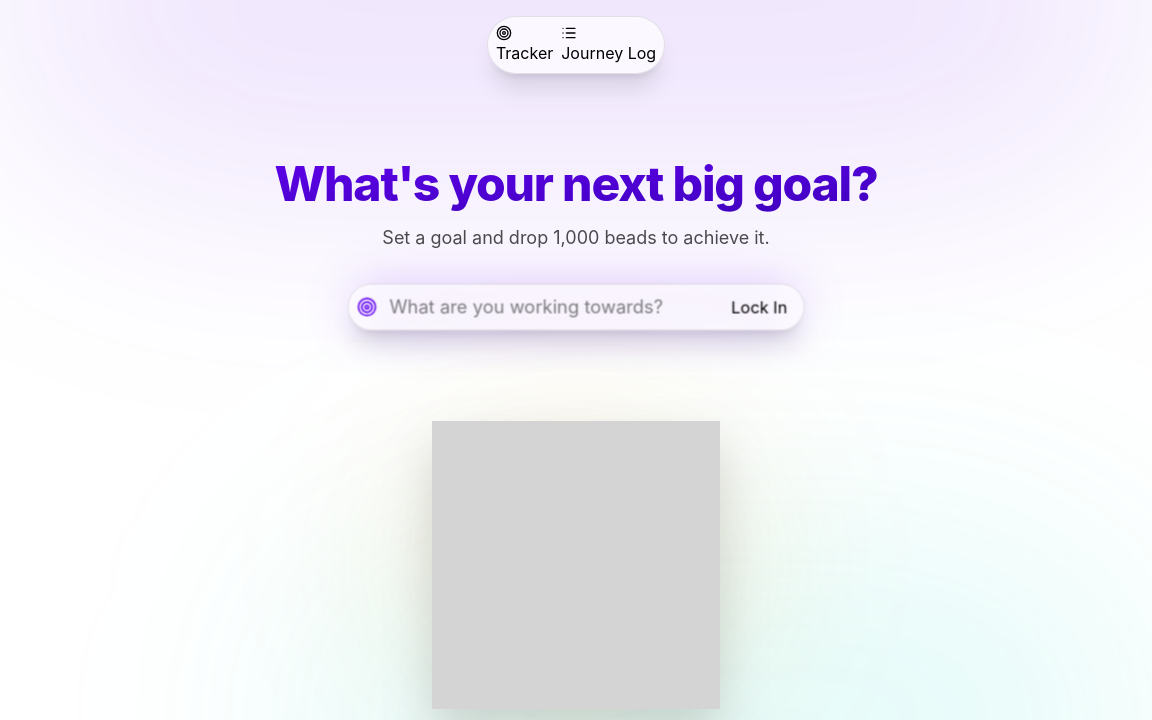
Test case: Gamified Goal Tracker › should allow setting a goal and display the bag image
Type "Test Goal" into the field with placeholder "What are you working towards?" at (560, 307), box [389, 293, 731, 321]
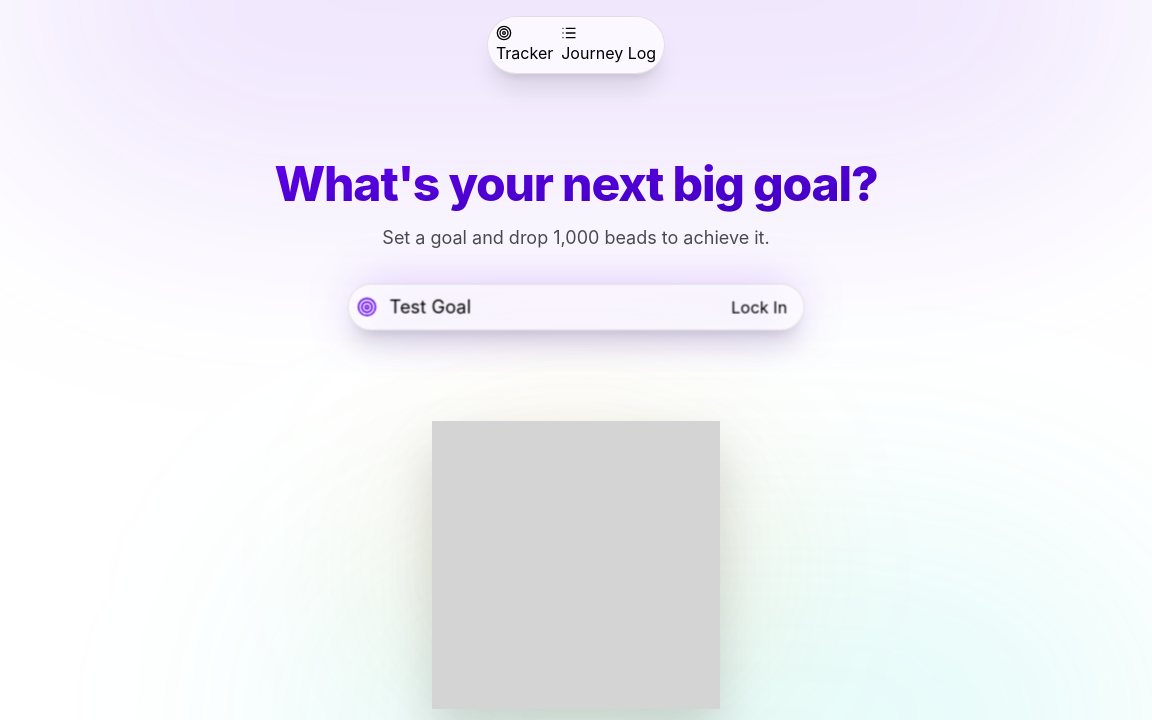
Click the button "Lock In" at (759, 307), box [731, 295, 787, 319]
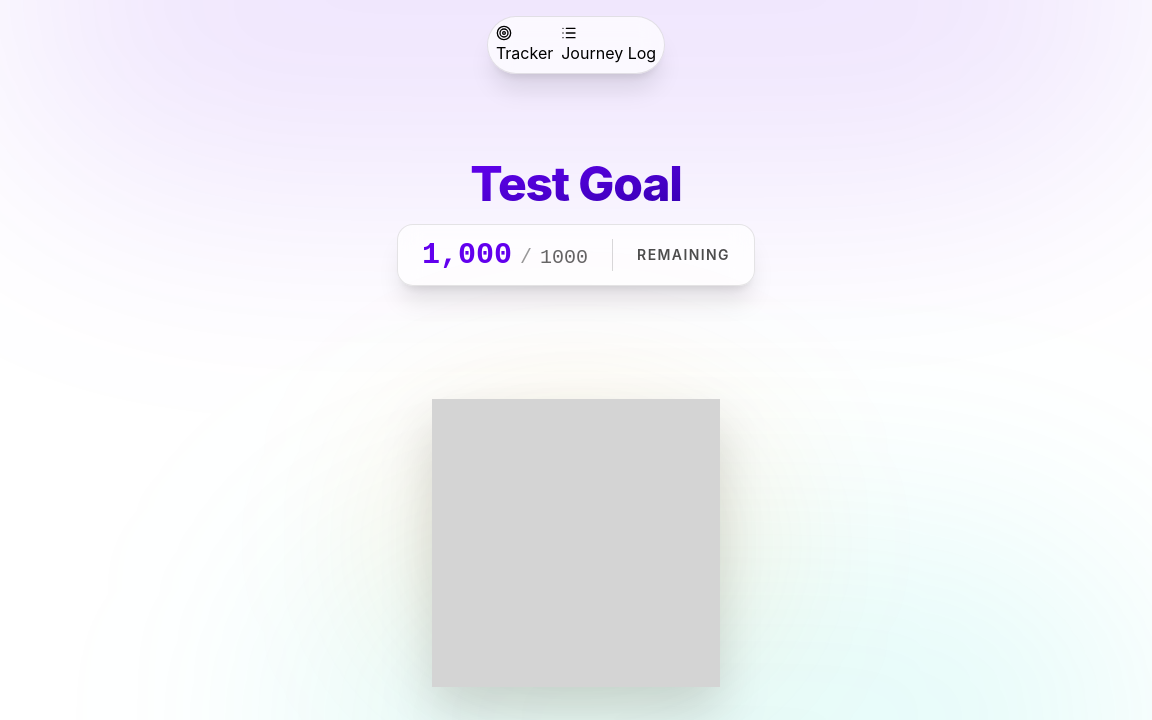
Expected: the heading "Test Goal" is shown, [470, 160, 682, 208]
Expected: the text "Remaining" is shown, [637, 245, 730, 265]
